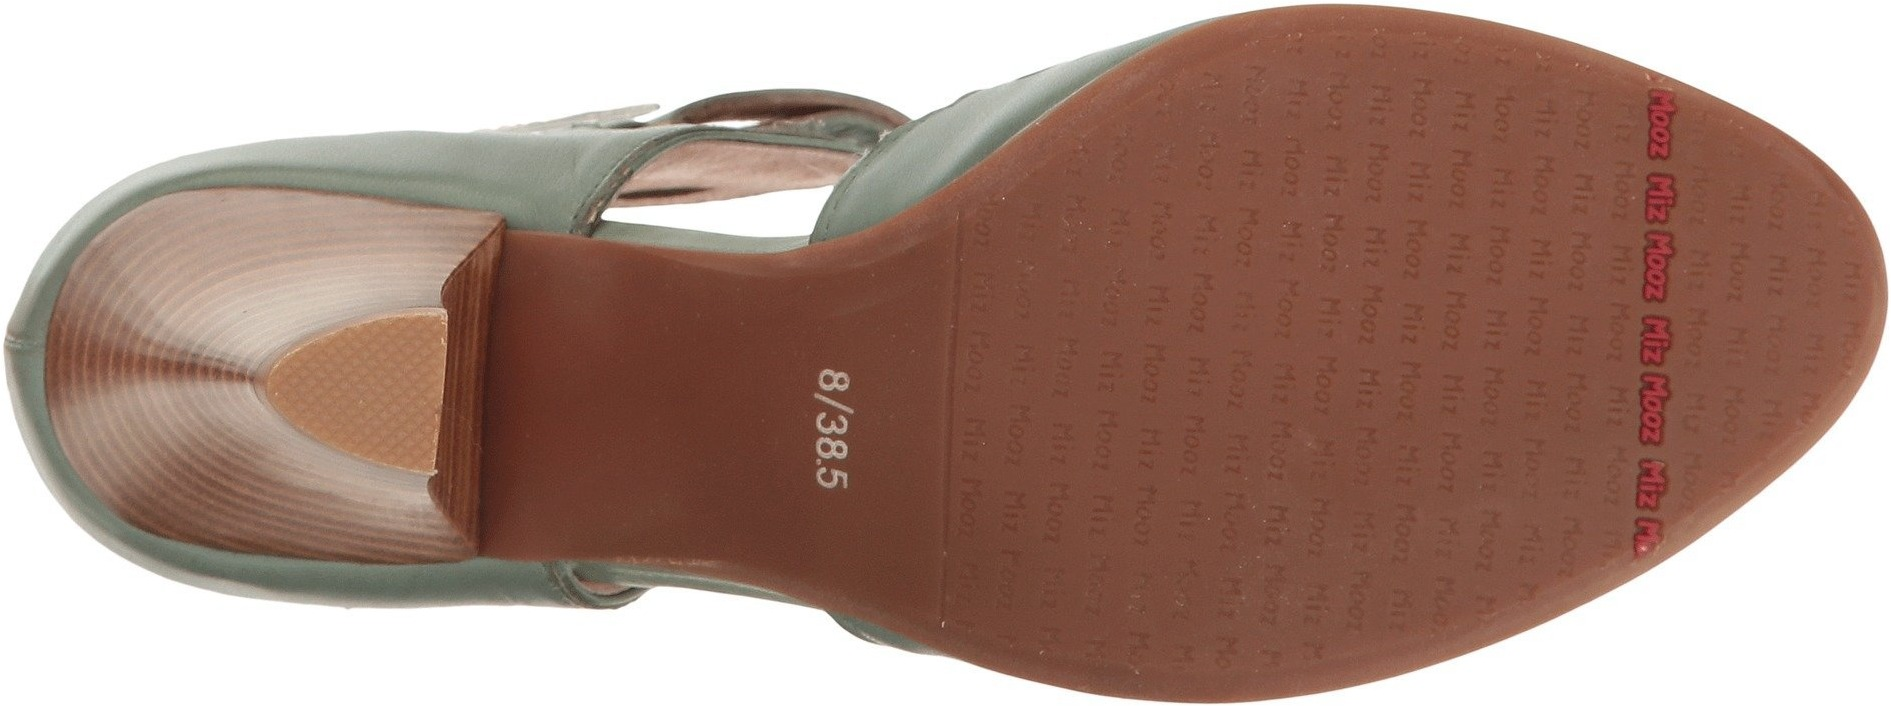exclude: (435, 224, 788, 585), (439, 226, 784, 587)
other: (1356, 74, 1681, 368), (1333, 352, 1561, 583), (1557, 368, 1714, 518), (1228, 56, 1368, 212), (1037, 478, 1167, 625), (327, 334, 447, 459)
text: (1391, 134, 1752, 484), (1036, 185, 1356, 497), (762, 361, 902, 504)
